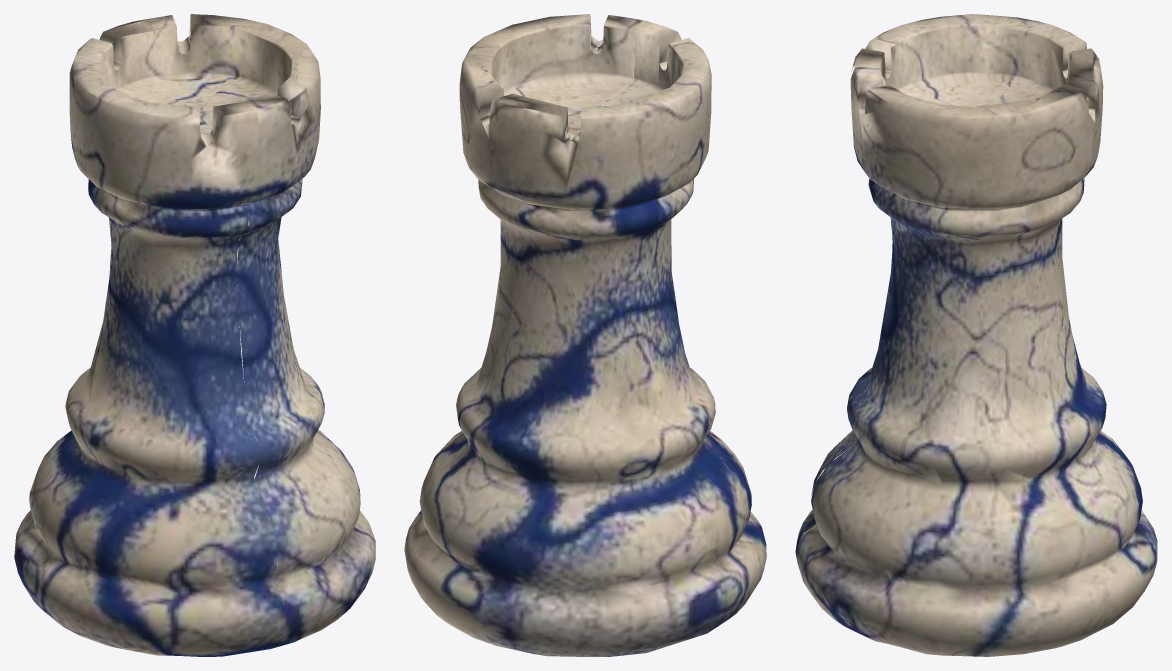
File: cobalt_vein_white_rook.glb
3 views of the same model, side by side, from view 1: azimuth 30°, elevation 25°; view 2: azimuth 150°, elevation 25°; view 3: azimuth 270°, elevation 25° (orthographic).
Parts seen in each view (by area): view 1: Cobalt Vein white rook; view 2: Cobalt Vein white rook; view 3: Cobalt Vein white rook.
Boxes of the visible parts, left/top/right/bottom form: Cobalt Vein white rook: left=14, top=14, right=375, bottom=656; Cobalt Vein white rook: left=404, top=14, right=766, bottom=656; Cobalt Vein white rook: left=795, top=14, right=1157, bottom=656.
Bounding box in the file's own units: 0.036 × 0.058 × 0.0359.
Materials: 1 (1 with a texture image).
